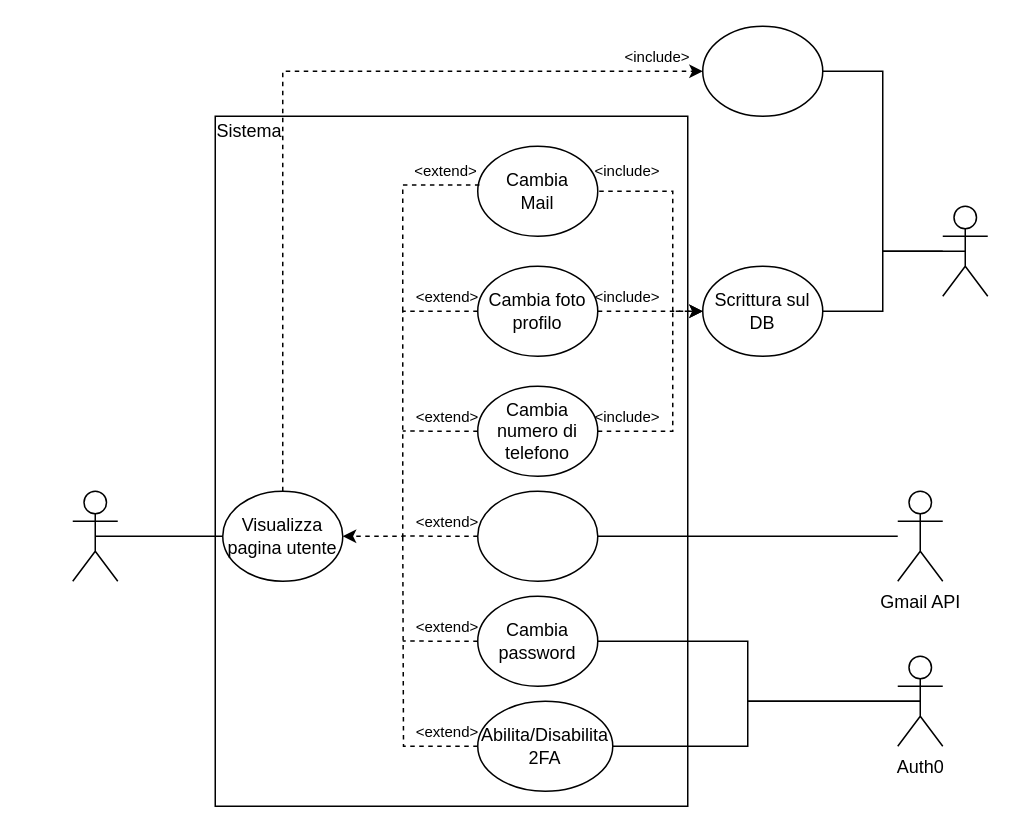
Some shapes in this 1026 by 833 pixel diagram are drawn without their labels. The shapes that lost their labels are listed below. From the top down, each one's box as (x1, y1, x2, y2) in pixels, then its label:
(701, 25, 823, 116): Lettura dal DB
(941, 205, 988, 296): MariaDB
(71, 490, 118, 581): Utente Registrato
(476, 490, 598, 581): Invia una segnalazione
